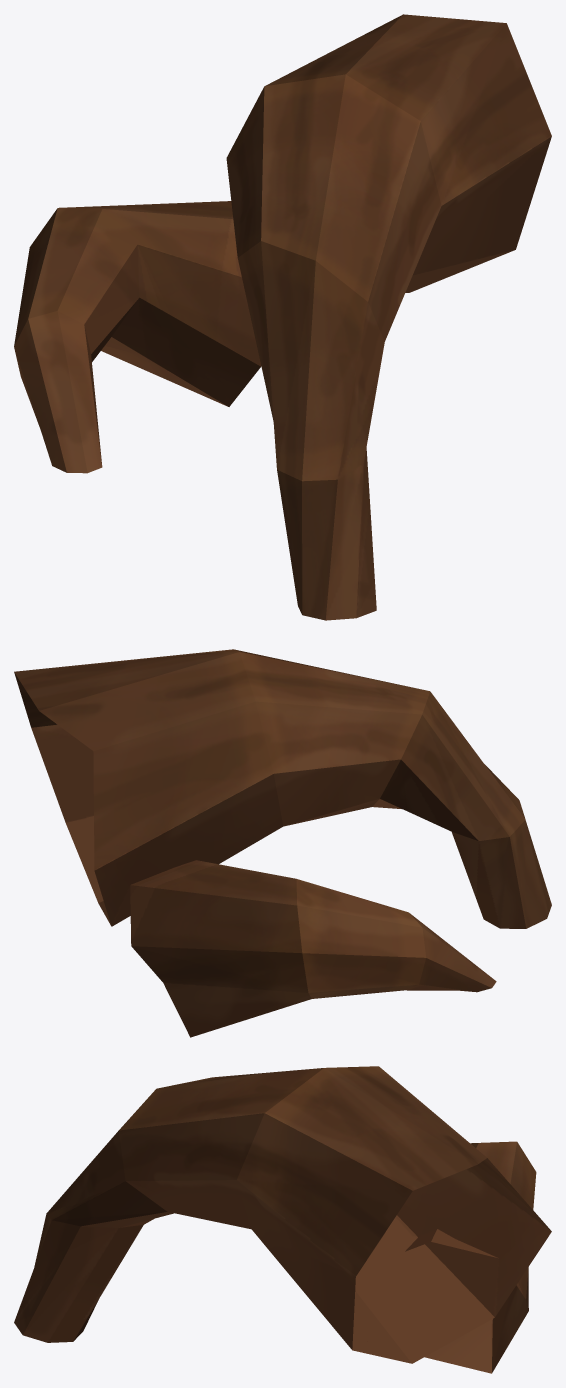
3 renders of one model, top to bottom at view 1: azimuth 30°, elevation 25°; view 2: azimuth 150°, elevation 25°; view 3: azimuth 270°, elevation 25°, orthographic. The views are drawn at different scales.
Parts seen in each view (by area): view 1: Raiz; view 2: Raiz; view 3: Raiz.
Boxes of the visible parts, x1=… form: Raiz: x1=14, y1=14, x2=551, y2=620; Raiz: x1=14, y1=649, x2=551, y2=1037; Raiz: x1=14, y1=1066, x2=551, y2=1373.
Bounding box in the file's own units: 0.7328 × 0.5173 × 0.7545.
